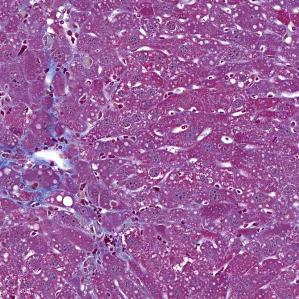fibrosis: (9, 146, 99, 213)
